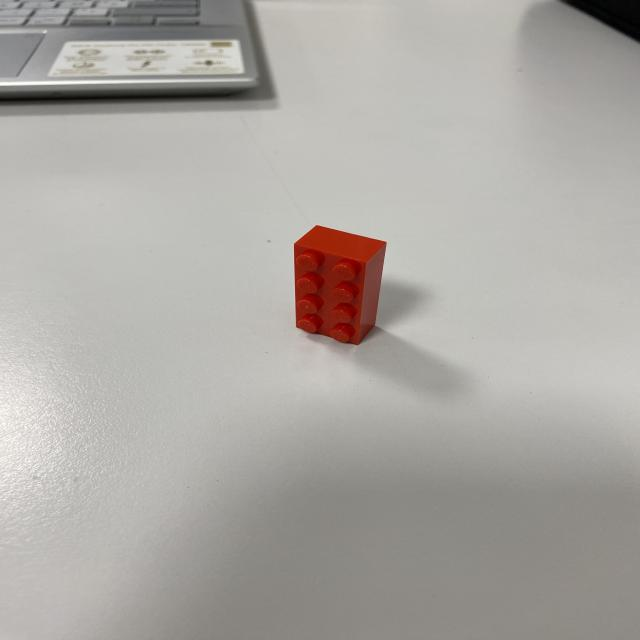C4x2x1: (294, 245, 366, 344), (293, 224, 390, 263), (358, 243, 388, 343)
